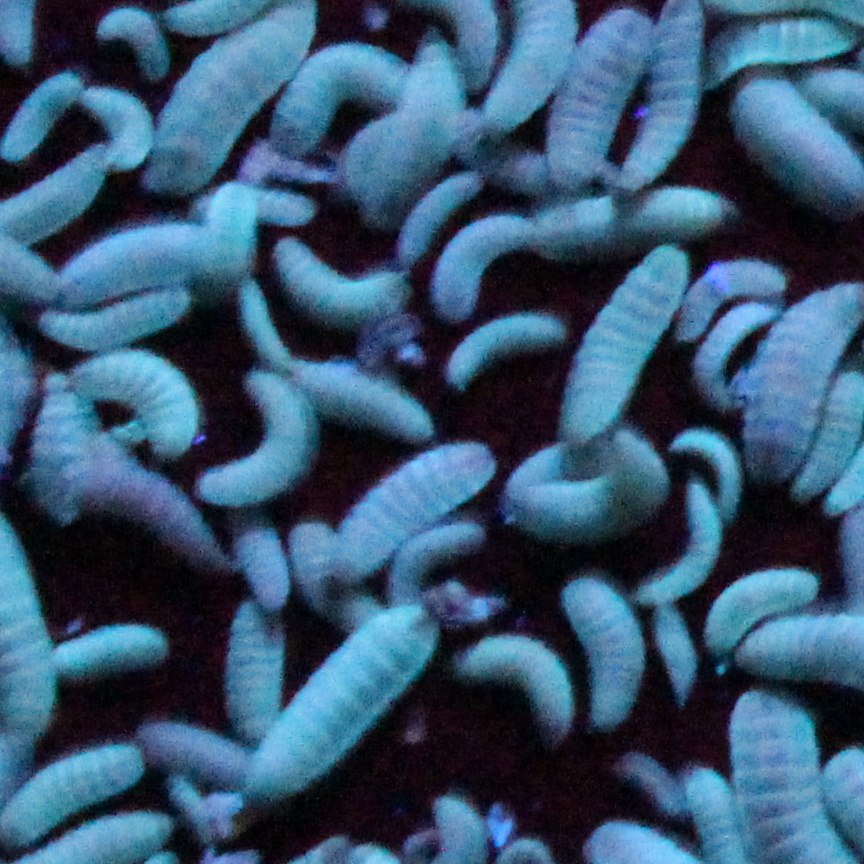larve: (236, 599, 454, 794), (556, 249, 699, 451), (324, 433, 497, 585), (345, 39, 467, 224), (542, 8, 656, 189), (195, 371, 327, 512), (270, 33, 413, 162), (506, 428, 677, 530), (554, 562, 649, 739), (61, 349, 204, 462), (267, 362, 440, 446), (54, 228, 222, 303), (27, 280, 204, 351), (433, 210, 549, 317), (467, 630, 583, 737), (274, 237, 413, 324), (688, 301, 790, 405), (445, 308, 565, 396), (699, 564, 822, 649), (670, 258, 788, 346), (370, 517, 488, 605), (645, 478, 720, 612), (77, 80, 163, 180), (38, 380, 90, 528), (404, 169, 479, 264), (236, 594, 288, 726), (202, 178, 261, 292), (45, 624, 174, 676), (640, 592, 699, 705), (231, 524, 299, 617), (145, 724, 249, 780), (674, 433, 745, 510), (286, 517, 347, 596), (240, 278, 290, 369), (627, 187, 733, 228)
